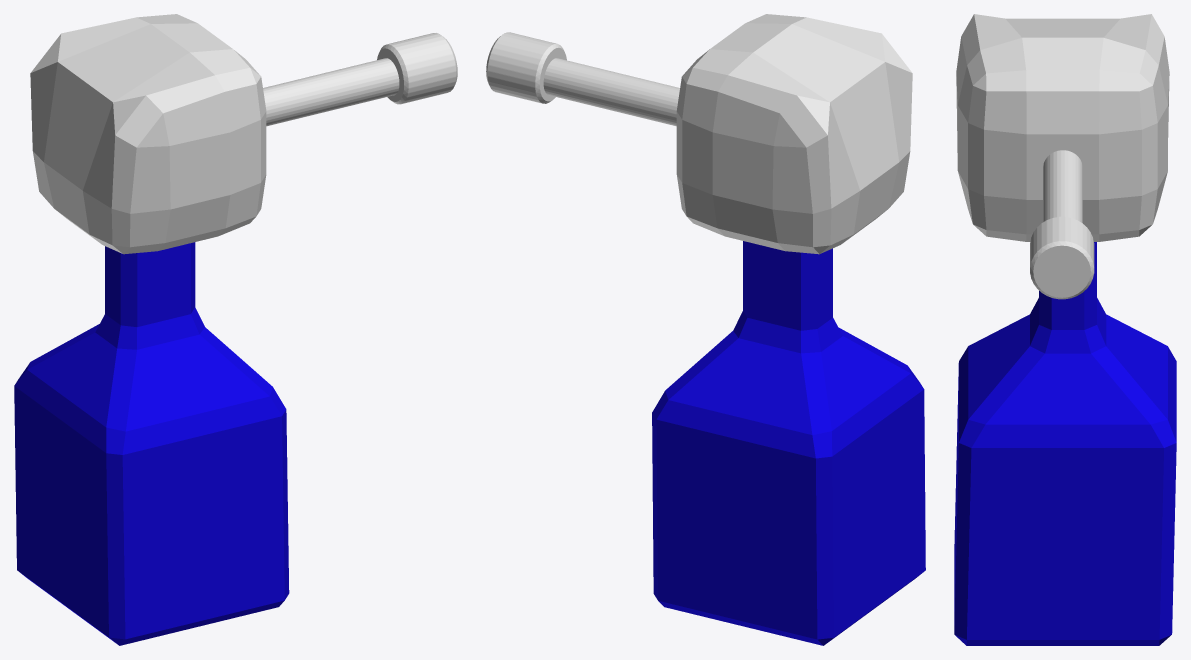
File: IceTower.fbx
3 renders of one model, left to right at view 1: azimuth 30°, elevation 25°; view 2: azimuth 150°, elevation 25°; view 3: azimuth 270°, elevation 25°, orthographic. The views are drawn at different scales.
Parts seen in each view (by area): view 1: IceTowerBase, IceTowerTurret, Barrel, BarrelTip; view 2: IceTowerBase, IceTowerTurret, Barrel, BarrelTip; view 3: IceTowerBase, IceTowerTurret, BarrelTip, Barrel.
Boxes of the visible parts, <box> form: IceTowerBase: <box>14,242,289,645</box>; IceTowerTurret: <box>30,14,266,254</box>; Barrel: <box>263,58,399,126</box>; BarrelTip: <box>377,33,457,104</box>; IceTowerBase: <box>652,241,925,645</box>; IceTowerTurret: <box>676,14,912,254</box>; Barrel: <box>543,58,679,126</box>; BarrelTip: <box>486,32,566,103</box>; IceTowerBase: <box>954,242,1176,645</box>; IceTowerTurret: <box>956,14,1169,241</box>; BarrelTip: <box>1030,216,1094,299</box>; Barrel: <box>1043,150,1082,222</box>.
Size of the model in its own units: 6072 by 8381 by 2932.
